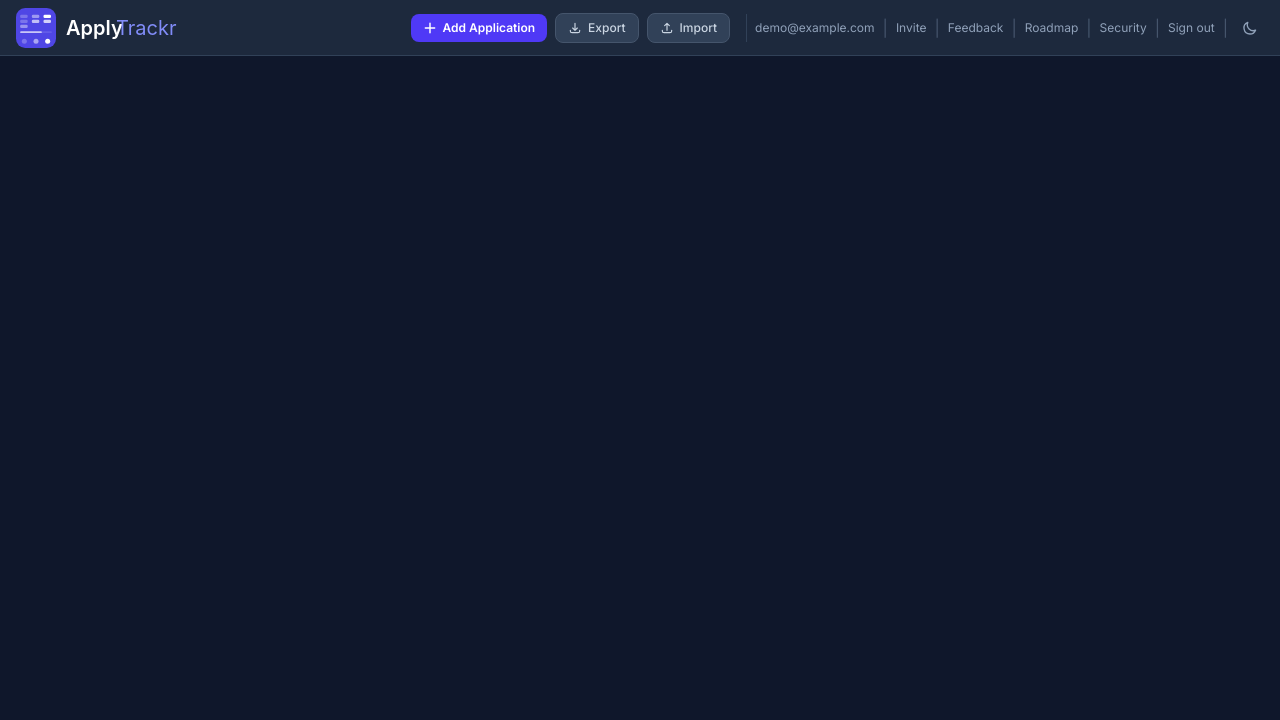
Test: Navbar — invite › closes the modal when Cancel is clicked
The width and height of the screenshot is (1280, 720).
What coordinates should you click on to do the following:
click the button "Invite"
I would click on:
 (911, 28)
Its box is [896,20,926,36].
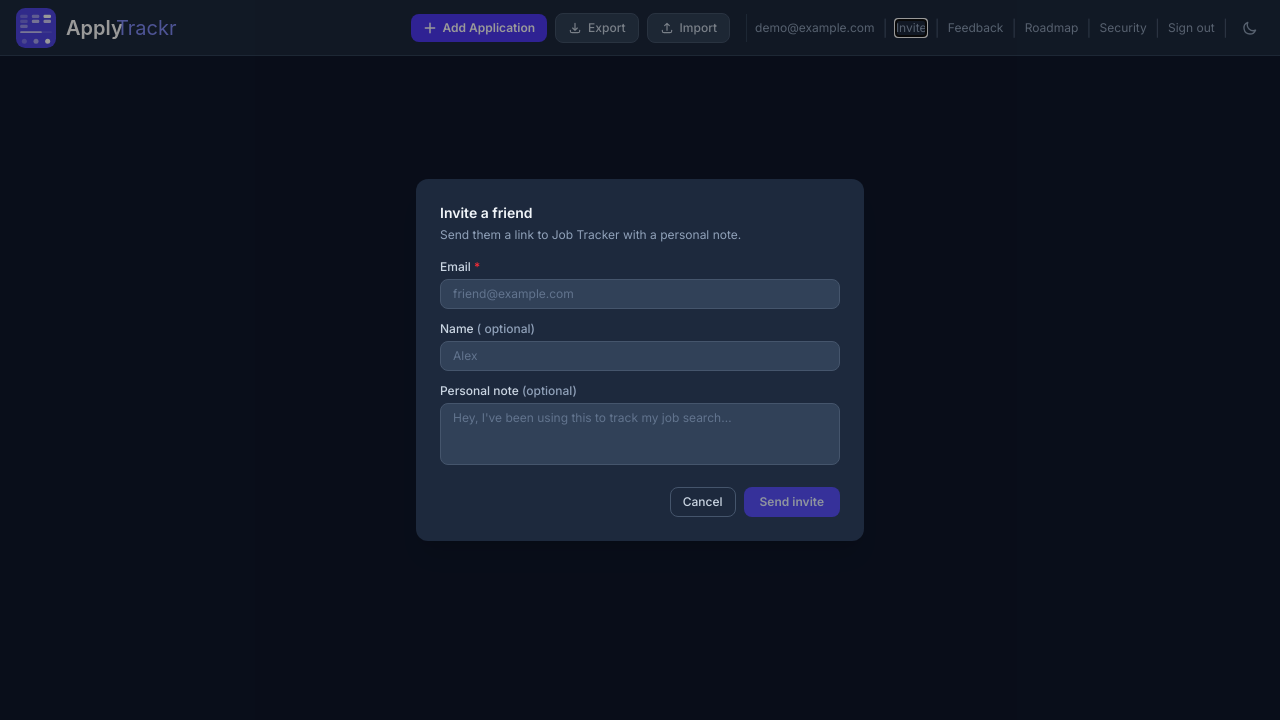
What coordinates should you click on to do the following:
click the button "Cancel"
I would click on:
 (703, 502)
Its box is [670,487,736,517].
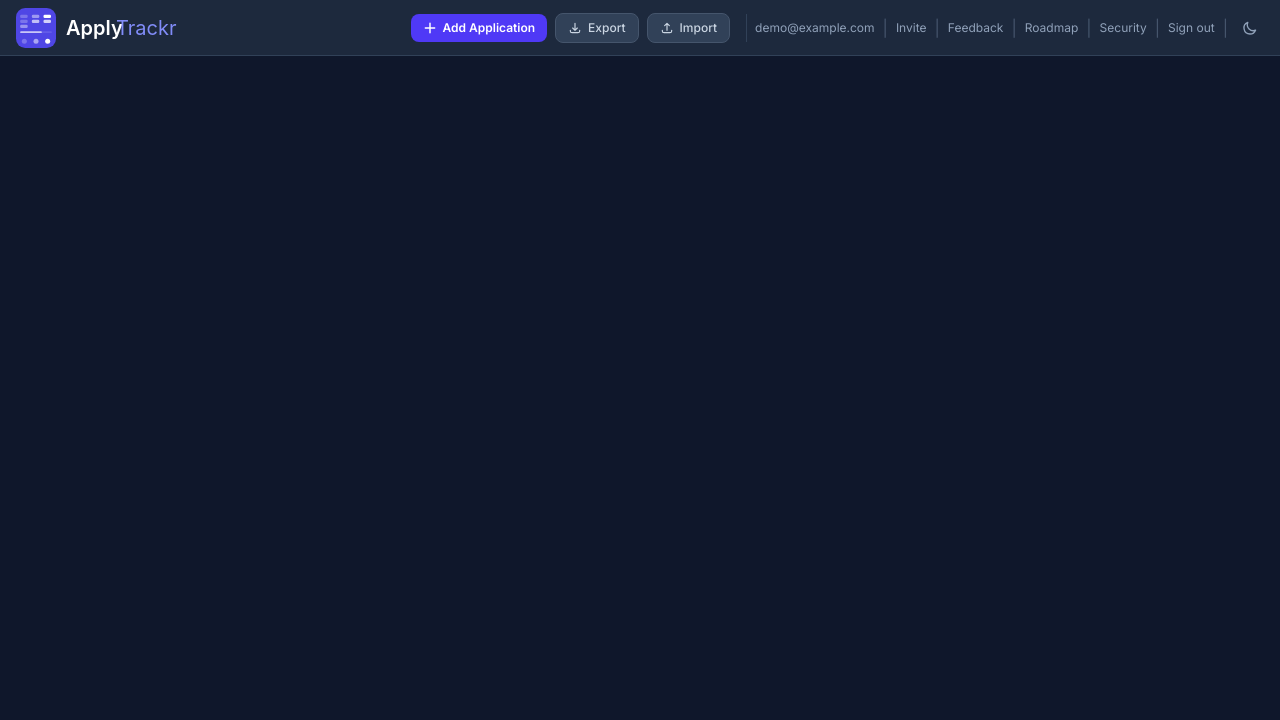
Now the heading "Invite a friend" is gone
